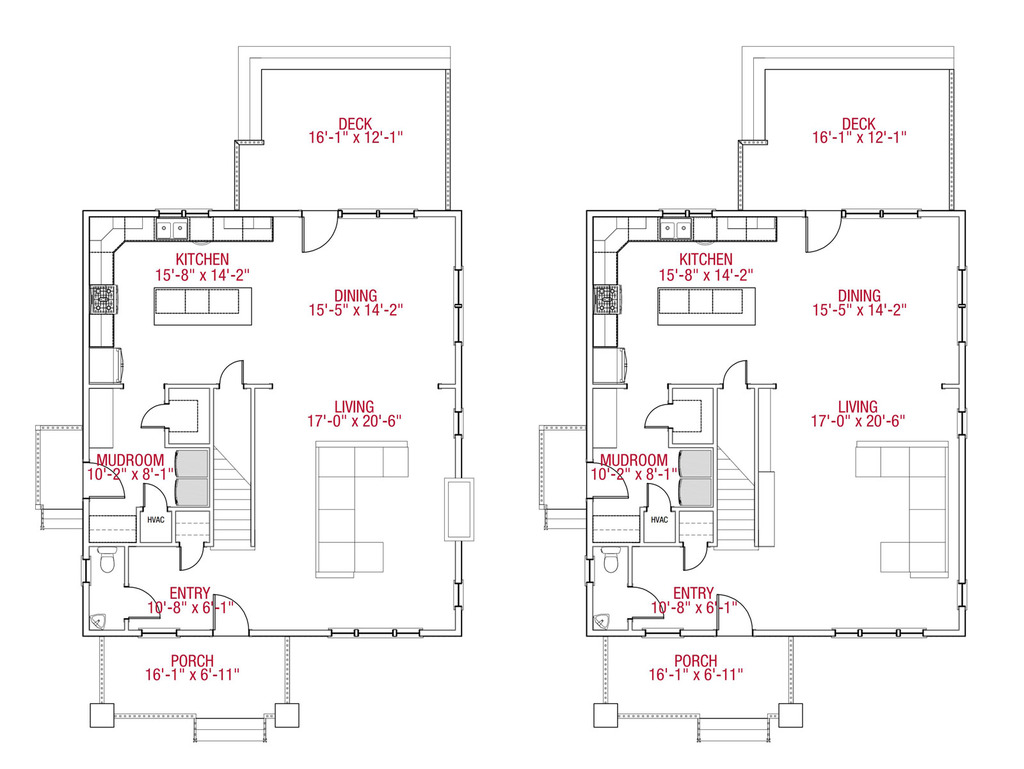door: (83, 453, 128, 502), (295, 208, 340, 257), (204, 590, 252, 635), (622, 580, 668, 621), (709, 593, 752, 636), (803, 208, 846, 250), (591, 458, 631, 501), (124, 585, 166, 621), (135, 398, 172, 434), (640, 400, 676, 436), (216, 359, 252, 392), (715, 360, 753, 390), (646, 477, 674, 517), (676, 543, 709, 573), (176, 536, 204, 571), (137, 479, 165, 510)
kitchen_bar: (140, 275, 260, 335), (646, 278, 771, 335)
large_sink: (593, 543, 624, 579), (89, 543, 122, 574)
stairs: (713, 386, 775, 554), (213, 390, 268, 561)
twin_sink: (146, 213, 196, 248), (657, 213, 702, 250)
